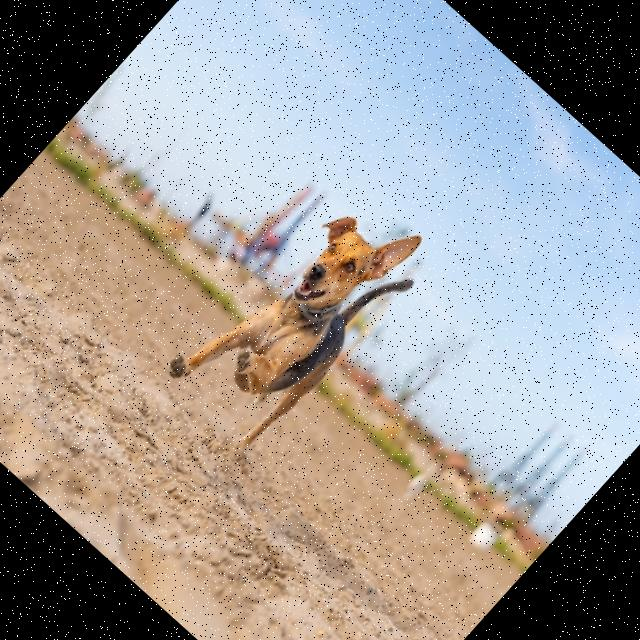Dog: (161, 166, 441, 458)
